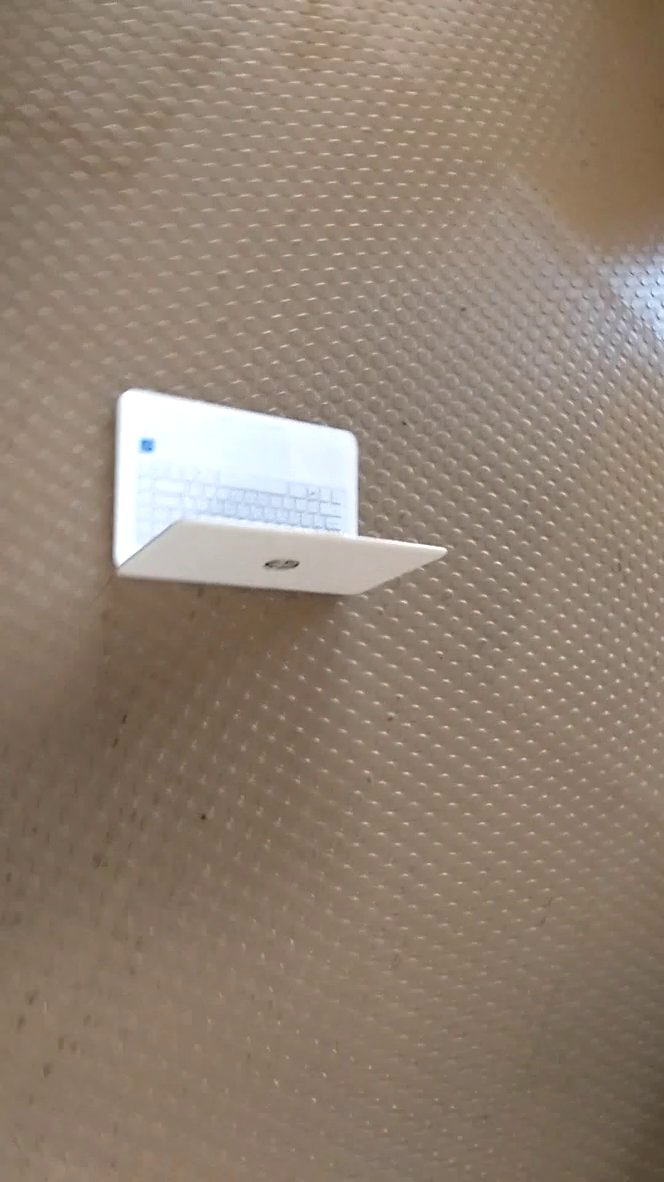laptop: (91, 373, 454, 618)
